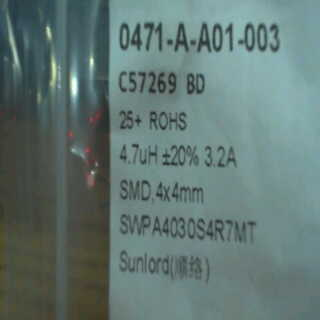4.7uH: (113, 141, 159, 170)
